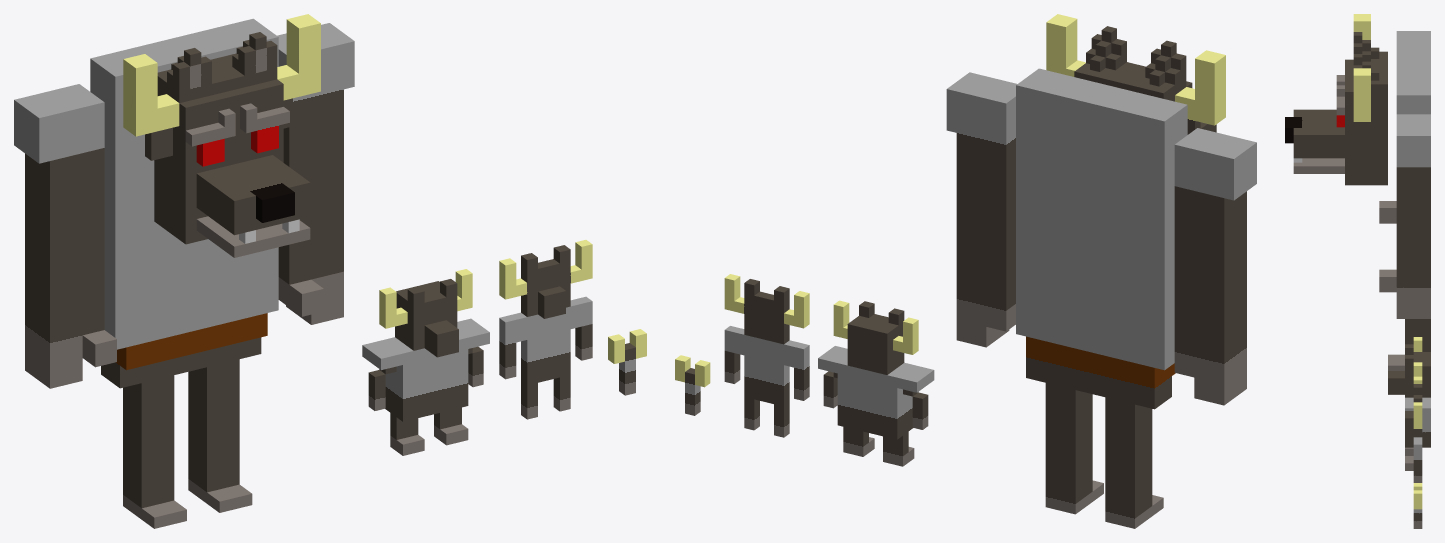
File: Enemies_Trolloc_Wolf.glb
3 renders of one model, left to right at view 1: azimuth 30°, elevation 25°; view 2: azimuth 150°, elevation 25°; view 3: azimuth 270°, elevation 25°, orthographic. The views are drawn at different scales.
Visible parts, largest first — view 1: pl0; view 2: pl0; view 3: pl0.
Boxes of the visible parts, x1,y1,x2,y2 form: pl0: (14,14,646,528); pl0: (675,14,1256,528); pl0: (1285,14,1430,528).
Bounding box in the file's own units: 57 × 43 × 17.
Materials: 1 (1 with a texture image).
